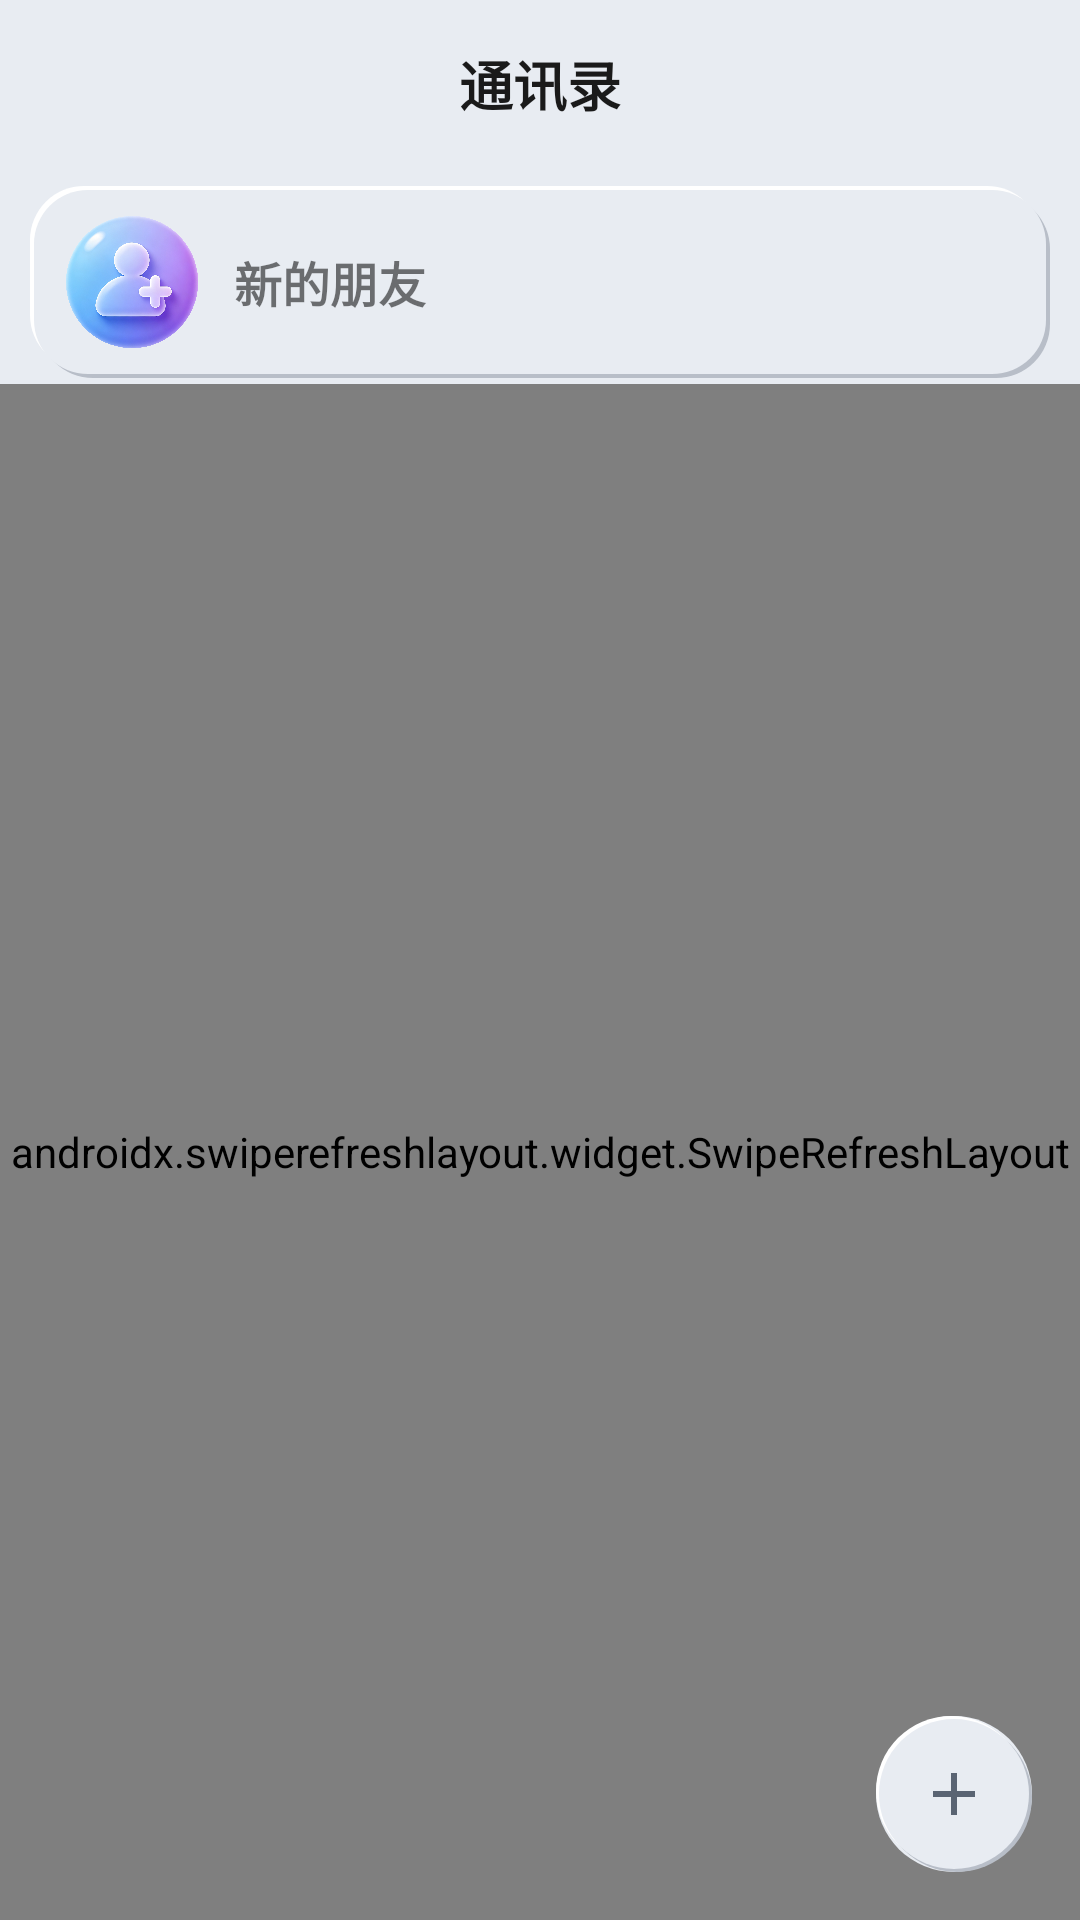

Where icons sit on this 1080px×1920px app screen, as Rect(x1, y1, x2, y2):
添加: Rect(876, 1716, 1032, 1872)
